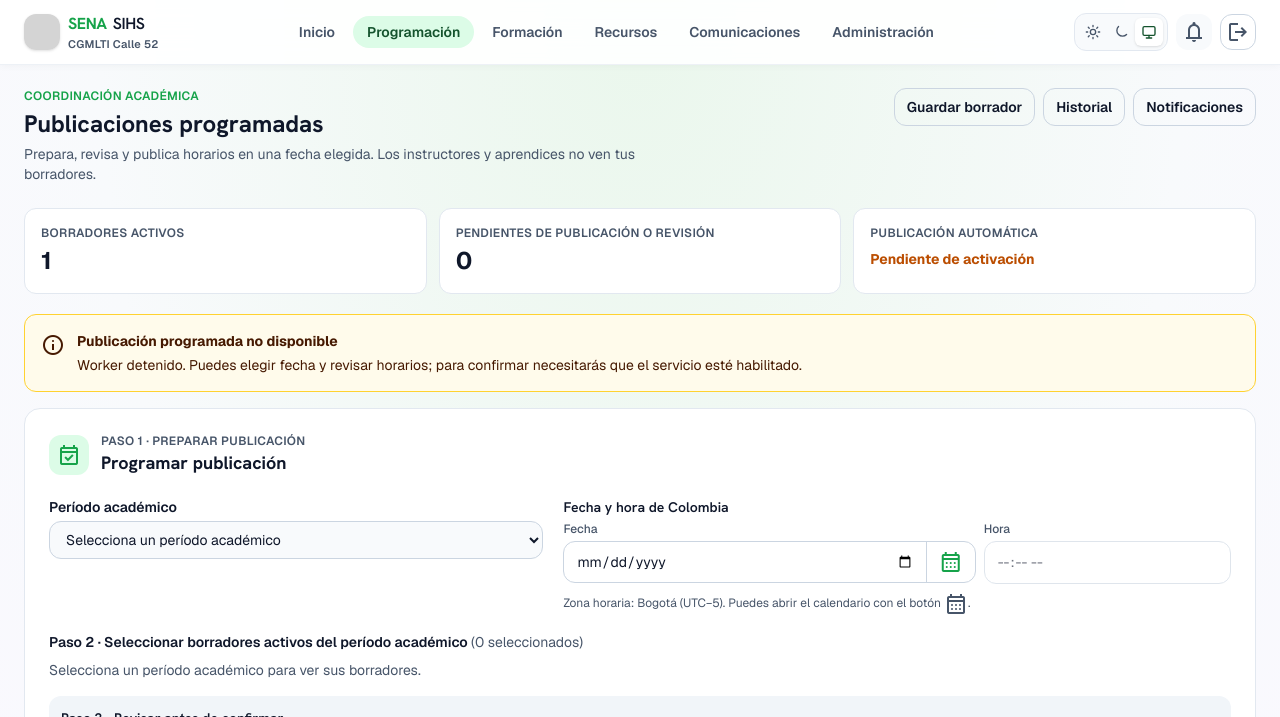
Scenario: PublicacionesProgramadas › no habilita programar si la disponibilidad real del worker está apagada, pero mantiene borradores e historial accesibles
The width and height of the screenshot is (1280, 717).
Expected: the text "Publicación programada no disponible" is shown, [77,332,338,350]
Select "2026-3 · 2026-07-01 a 2026-09-30" in the dropdown labelled "Período académico" at coordinates (296, 540), box [49,521,544,559]
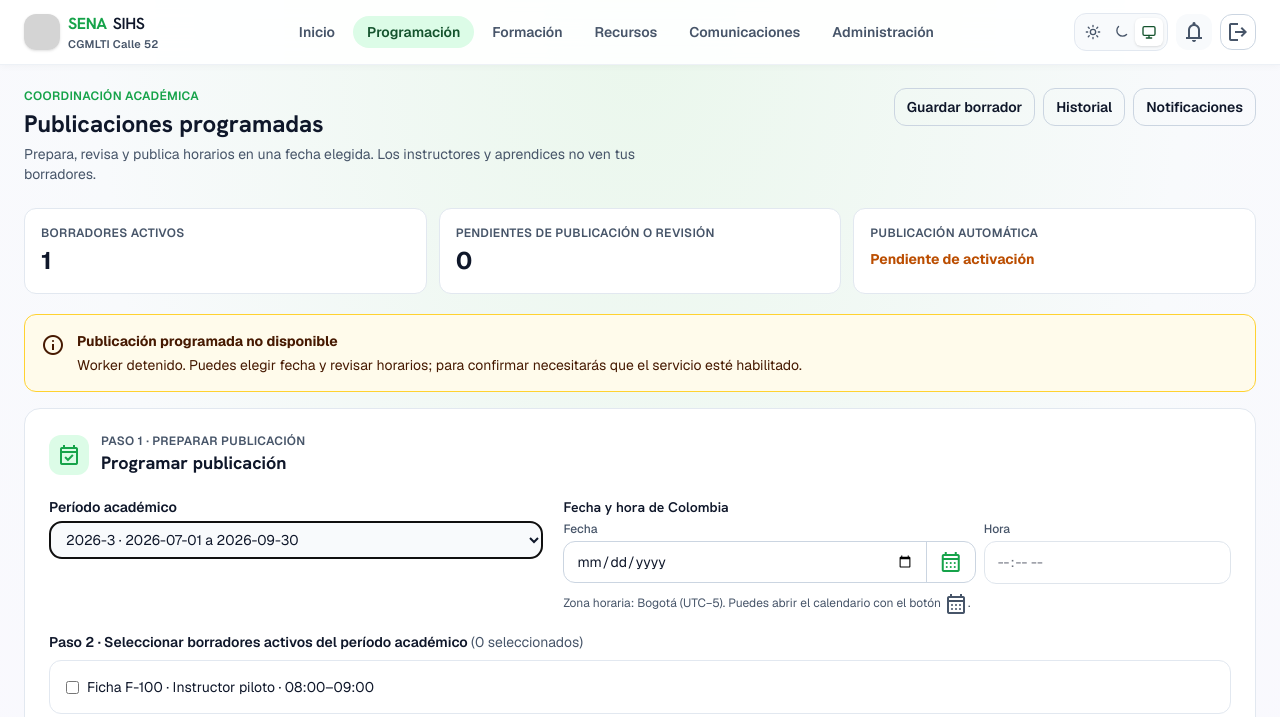
Result: the checkbox labelled "Ficha F-100 · Instructor piloto · 08:00–09:00" is shown at [66,681,79,694]
Click the button named "Abrir calendario" at coordinates (950, 562), box [926,542,975,582]
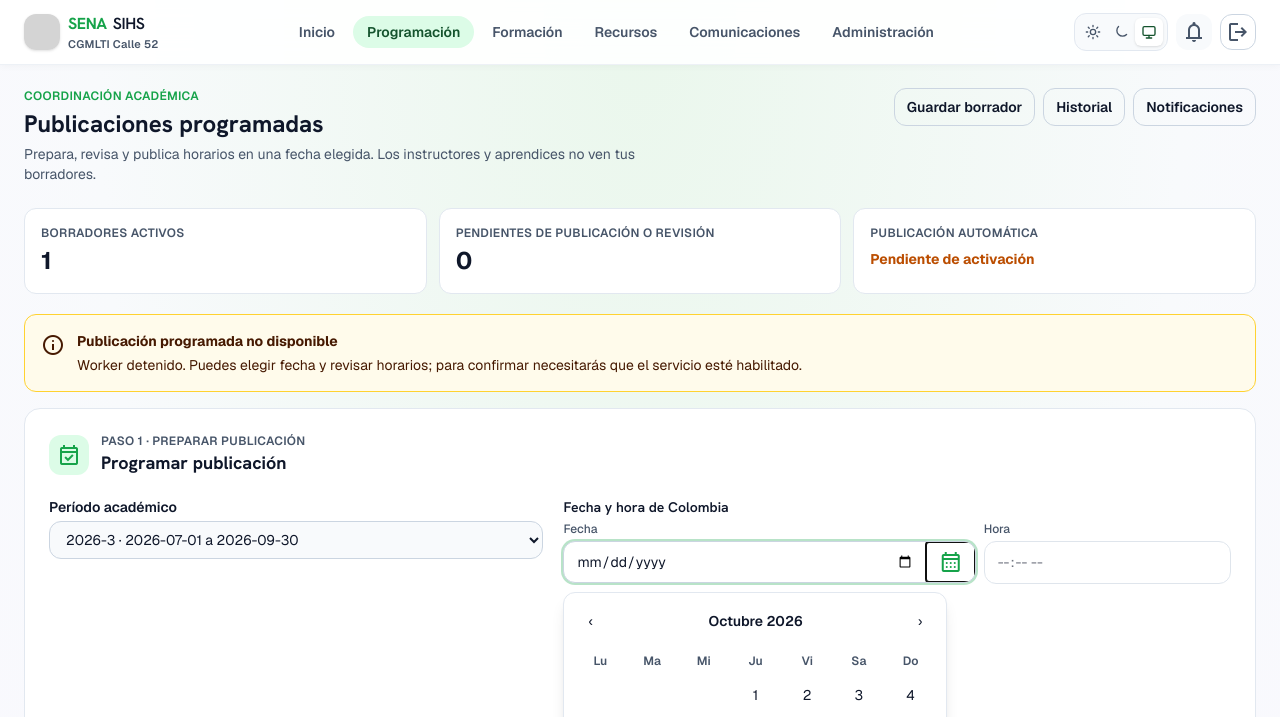
Type "2026-10-15" into the date field labelled "Fecha" at coordinates (745, 562), box [564,542,926,582]
(page scrolled)
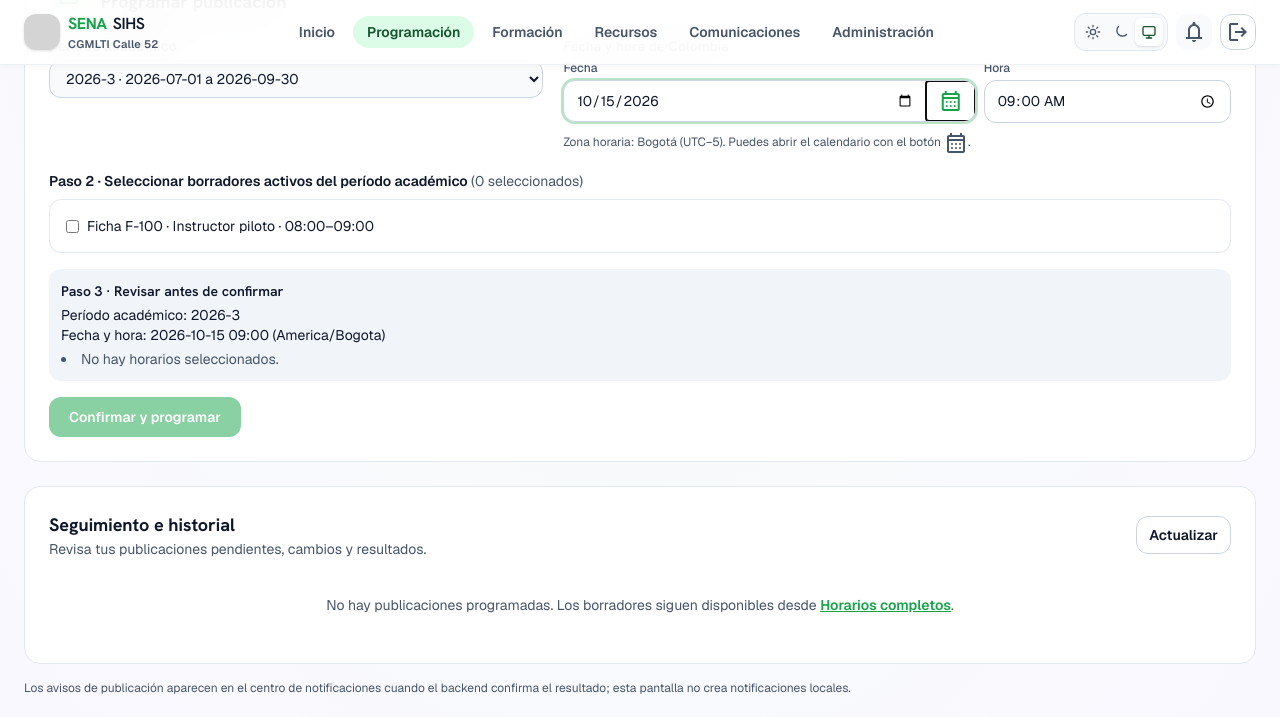
Expected: the button "Confirmar y programar" is disabled, [49,397,241,437]
Result: the time field labelled "Hora" is enabled at [984,80,1231,123]
